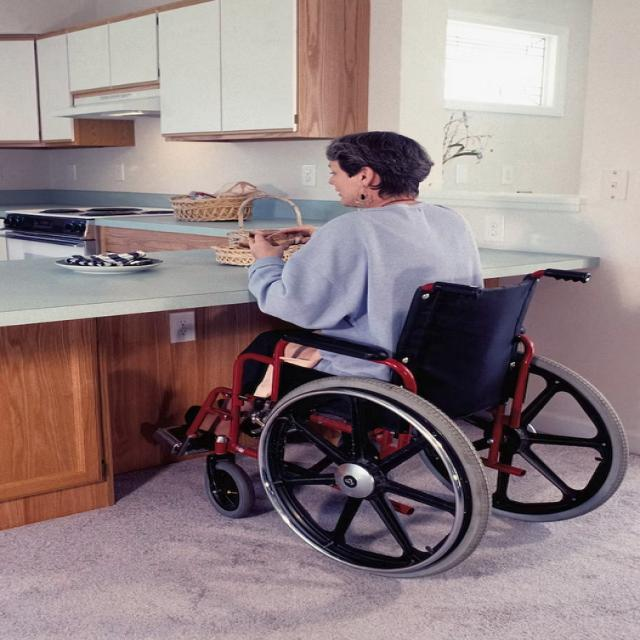wheelchairs: (148, 268, 629, 576)
